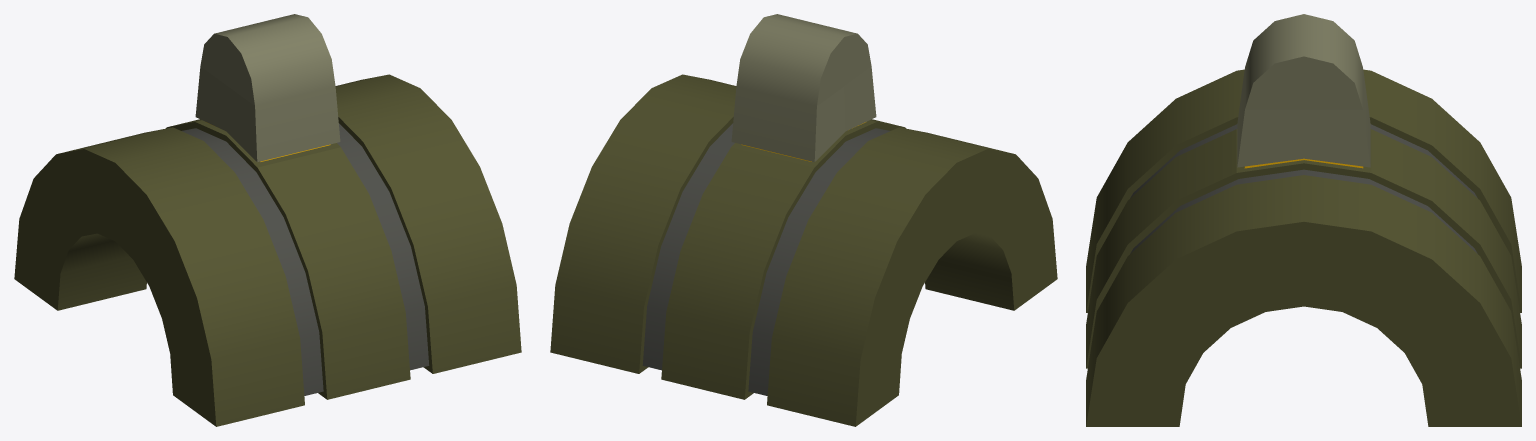
Rendered from Bot_L_Foot.fbx.
3 views of the same model, side by side, from view 1: azimuth 30°, elevation 25°; view 2: azimuth 150°, elevation 25°; view 3: azimuth 270°, elevation 25° (orthographic). The views are drawn at different scales.
Parts seen in each view (by area): view 1: L_Foot; view 2: L_Foot; view 3: L_Foot.
Part boxes in pixels (left/top/right/bottom): L_Foot: left=14, top=14, right=521, bottom=426; L_Foot: left=550, top=14, right=1057, bottom=426; L_Foot: left=1086, top=14, right=1521, bottom=426.
Size of the model in its own units: 1669 by 1508 by 1913.
